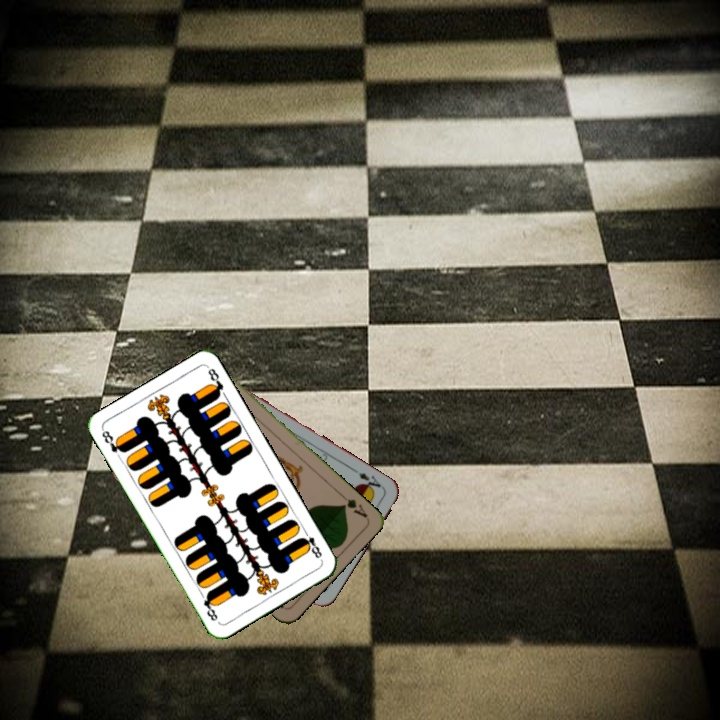E8: (297, 526, 325, 563), (98, 426, 128, 455)
EA: (349, 465, 386, 495)
GA: (336, 489, 370, 520)
